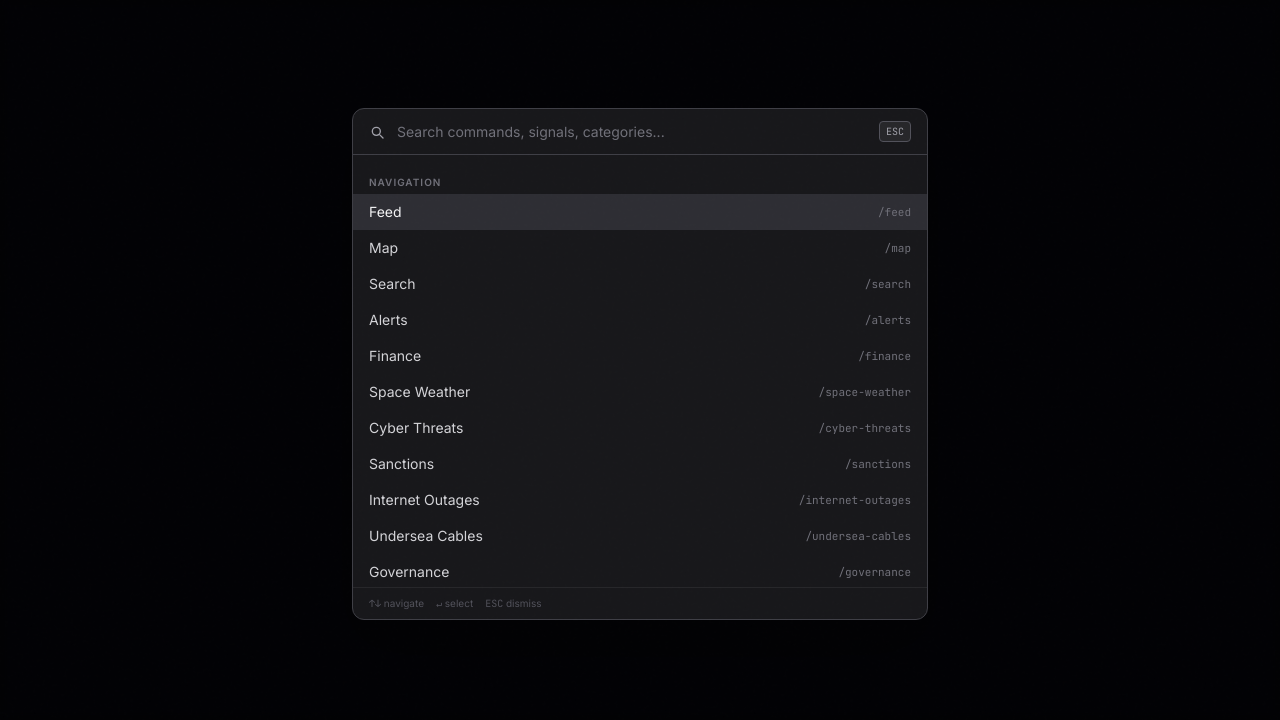
Test: CommandPalette › 6. filters results by query — only matching items shown
In the dropdown with placeholder "Search commands, signals, categories...": (632, 132) [397,122,867,142], type "map"
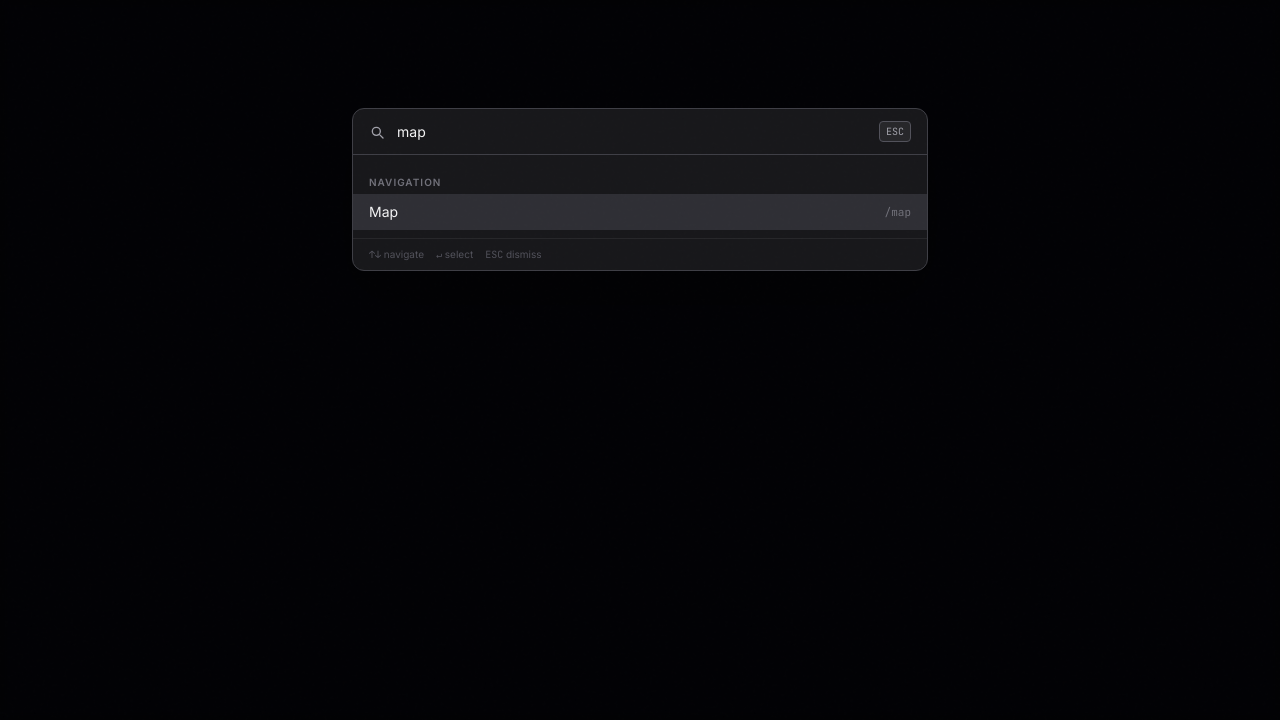
Expected: the text "Map" is shown, [369,203,398,220]
Now the option "Feed" is gone
